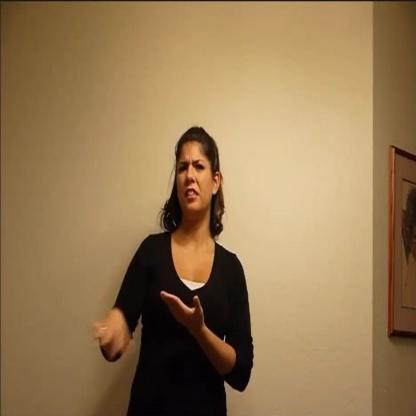Expensive: (92, 262, 202, 368)
